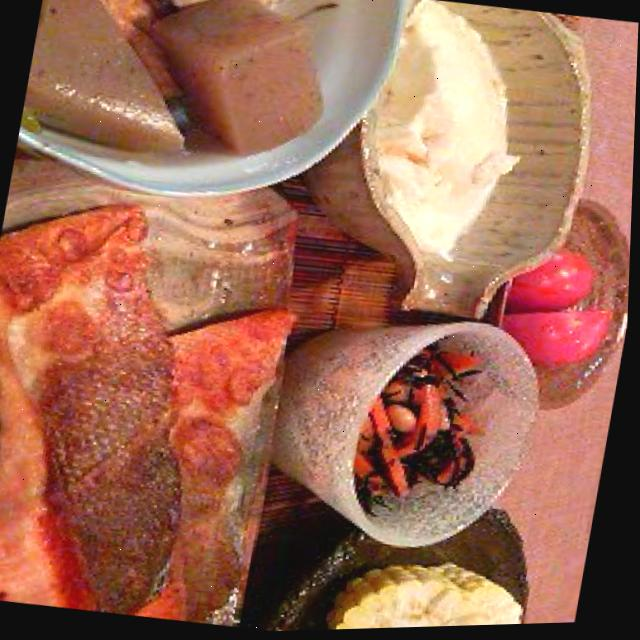熟制海鲜: (0, 187, 317, 636)
